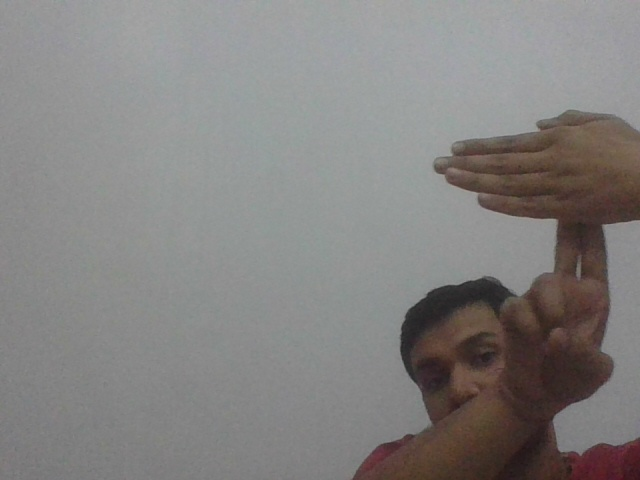N: (432, 106, 640, 277)
